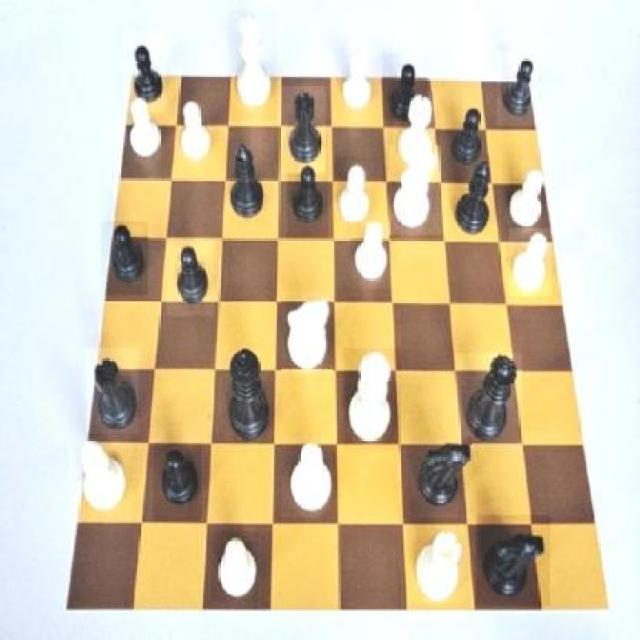bishop: (448, 156, 498, 240), (223, 137, 266, 226)
black-bishop: (220, 343, 276, 451)
black-king: (477, 516, 551, 606), (412, 438, 472, 518)
black-knight: (154, 442, 201, 520), (168, 240, 215, 316), (123, 29, 166, 112), (100, 223, 148, 297), (288, 154, 328, 238), (382, 54, 428, 120), (444, 101, 488, 170), (497, 52, 538, 126)
black-pawn: (457, 354, 523, 446)
black-queen: (86, 348, 139, 434), (282, 86, 326, 173)
black-rook: (70, 436, 132, 524), (283, 437, 337, 526)
white-bishop: (344, 348, 402, 450)
white-king: (389, 146, 442, 236), (281, 292, 334, 375)
white-knight: (121, 88, 166, 174), (172, 91, 217, 175), (210, 530, 258, 602), (334, 157, 378, 235), (510, 229, 552, 297), (502, 168, 546, 232), (336, 46, 376, 116), (351, 223, 391, 291)
white-pawn: (229, 9, 277, 119)
white-queen: (410, 530, 464, 602), (392, 91, 435, 181)
